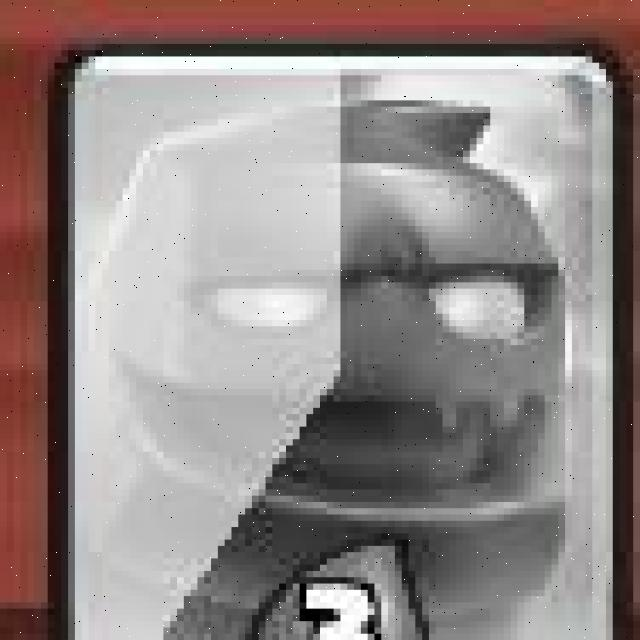Elixir_Golem: (46, 39, 620, 640)
